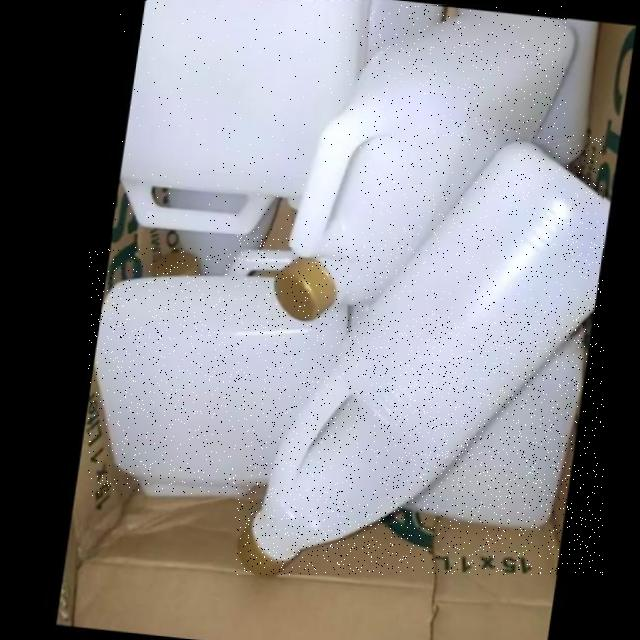plastic: (236, 135, 604, 574), (268, 5, 567, 320), (89, 247, 348, 496), (113, 1, 360, 233)
